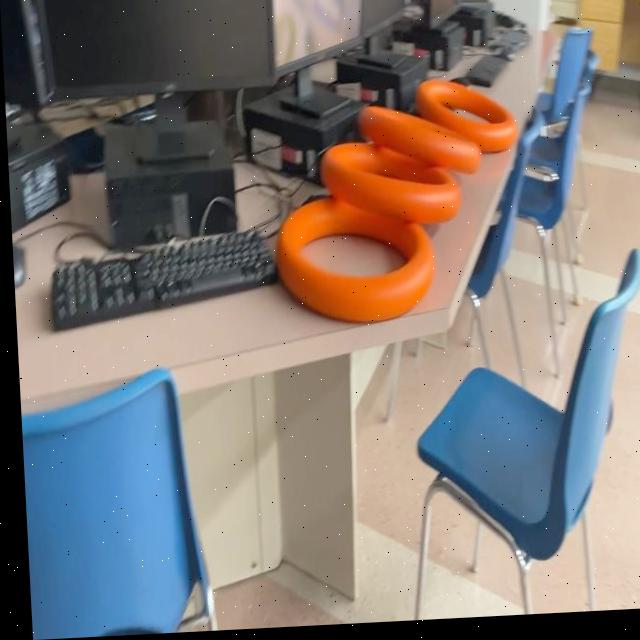note: (273, 196, 436, 330), (317, 140, 461, 235), (354, 102, 479, 187), (411, 77, 517, 164)
